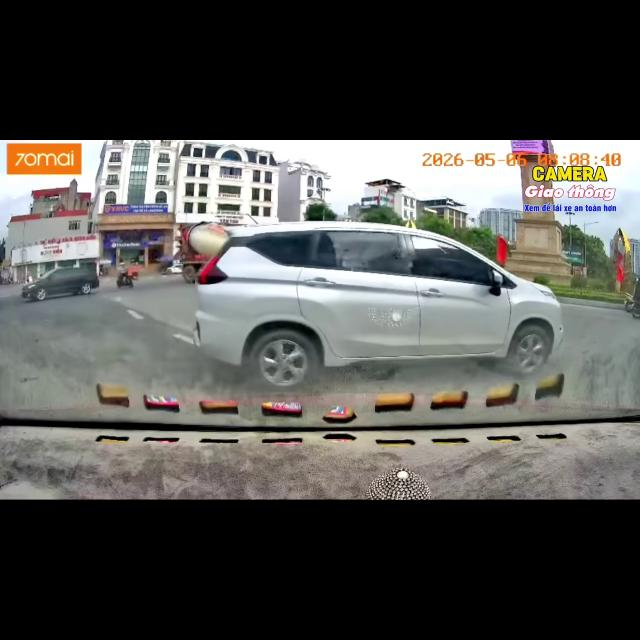car: (193, 222, 562, 385), (22, 267, 99, 300), (166, 264, 182, 273)
motorcycle: (117, 277, 133, 287), (625, 293, 633, 312), (631, 305, 639, 318)
truck: (174, 216, 245, 283)
